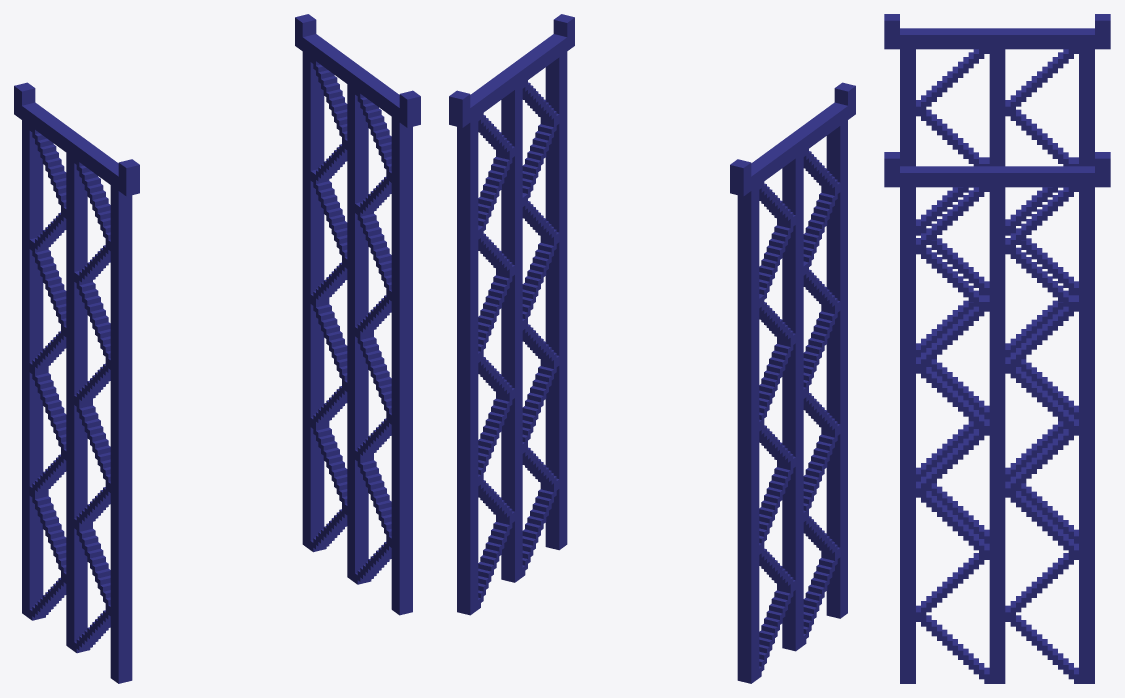
The model's file is ElevadorSuporte.obj.
The picture shows the model from 3 angles, left to right: view 1: azimuth 30°, elevation 25°; view 2: azimuth 150°, elevation 25°; view 3: azimuth 270°, elevation 25°; orthographic projection.
Bounding box in the file's own units: 6.5 × 11 × 4.3.
Materials: 1 (1 with a texture image).
